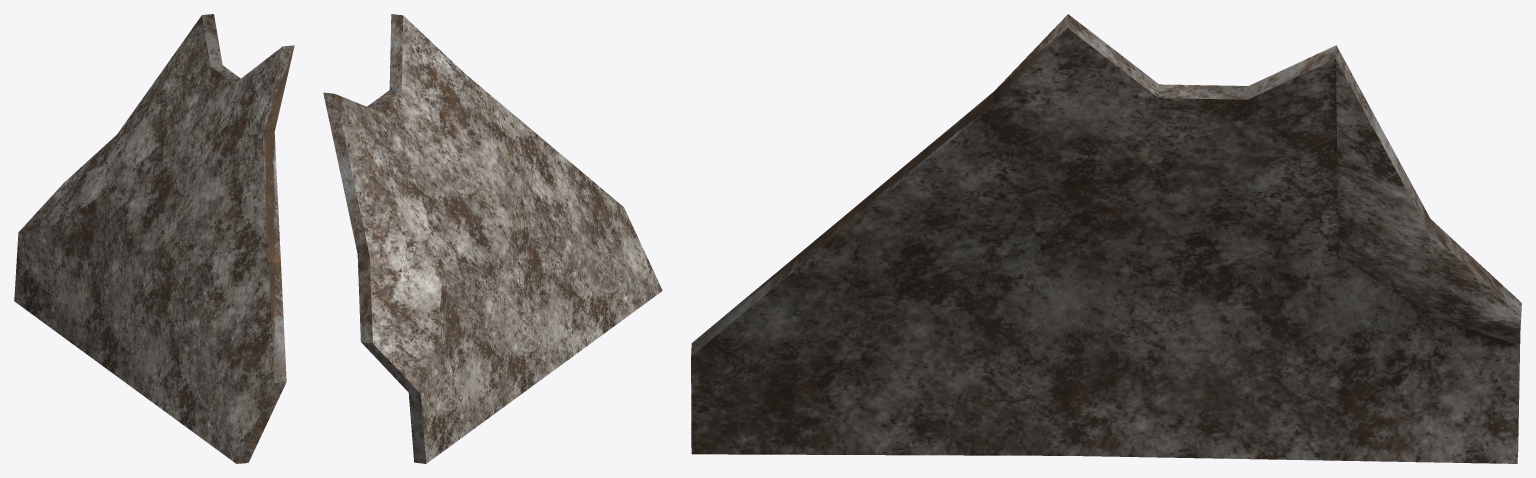
Rendered from RuinaEdificio1.obj.
3 renders of one model, left to right at view 1: azimuth 30°, elevation 25°; view 2: azimuth 150°, elevation 25°; view 3: azimuth 270°, elevation 25°, orthographic. The views are drawn at different scales.
Visible parts, largest first — view 1: RuinaEdificio1; view 2: RuinaEdificio1; view 3: RuinaEdificio1.
Boxes of the visible parts, x1=… form: RuinaEdificio1: x1=14, y1=14, x2=294, y2=463; RuinaEdificio1: x1=323, y1=14, x2=662, y2=463; RuinaEdificio1: x1=691, y1=14, x2=1521, y2=463.
Size of the model in its own units: 27.47 by 50.8 by 67.23.
1 material, 1 textured.
